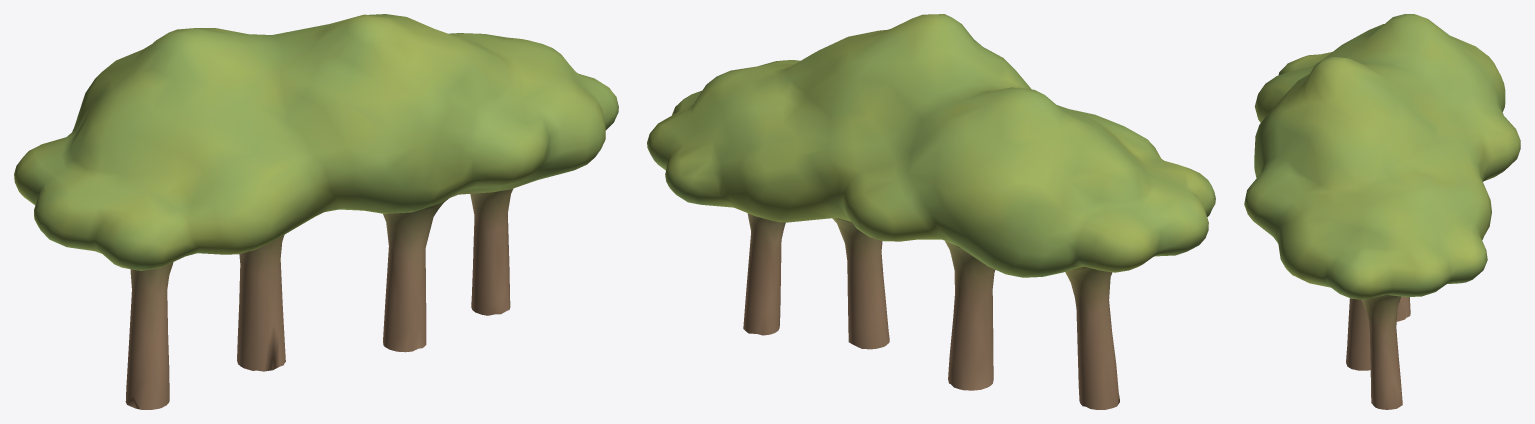
Rendered from cluster1.glb.
The picture shows the model from 3 angles, left to right: view 1: azimuth 30°, elevation 25°; view 2: azimuth 150°, elevation 25°; view 3: azimuth 270°, elevation 25°; orthographic projection. The views are drawn at different scales.
Visible parts, largest first — view 1: body; view 2: body; view 3: body.
Boxes of the visible parts, x1,y1,x2,y2 form: body: (14, 14, 618, 409); body: (647, 14, 1215, 409); body: (1244, 14, 1520, 409).
Size of the model in its own units: 13.55 by 7.93 by 7.05.
